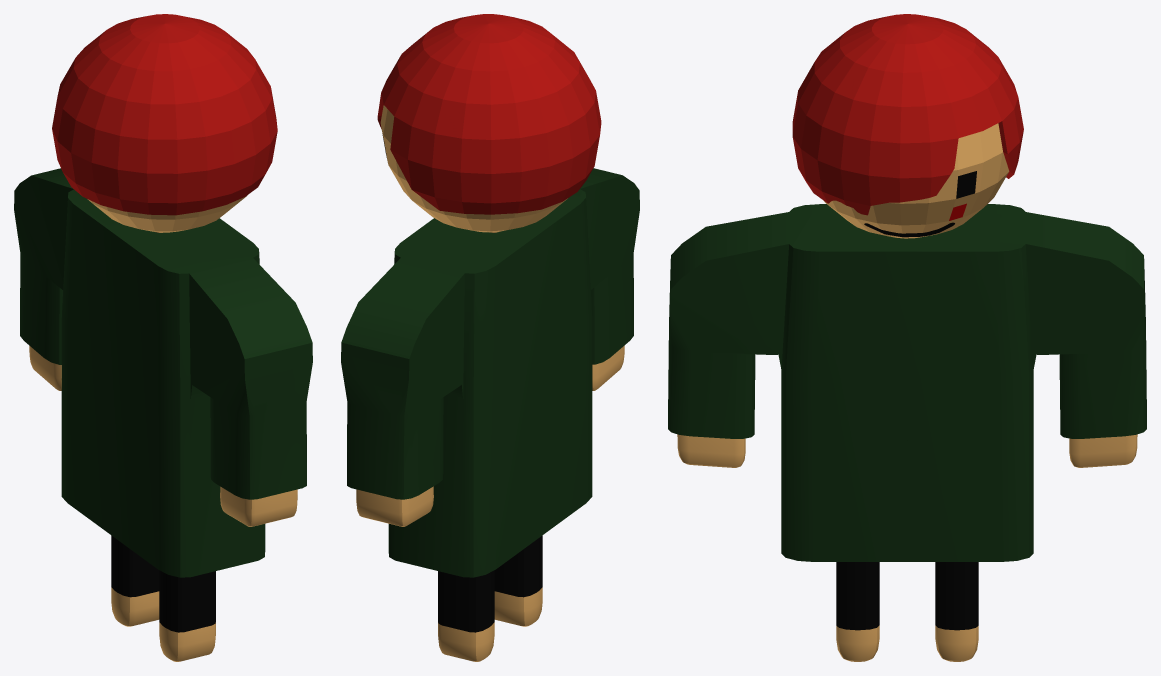
The model's file is Maria.fbx.
3 renders of one model, left to right at view 1: azimuth 30°, elevation 25°; view 2: azimuth 150°, elevation 25°; view 3: azimuth 270°, elevation 25°, orthographic. The views are drawn at different scales.
Visible parts, largest first — view 1: Cube; view 2: Cube; view 3: Cube.
Part boxes in pixels (box(x1,y1,x2,y2)): Cube: box(14, 14, 312, 661); Cube: box(341, 14, 639, 661); Cube: box(668, 14, 1146, 661).
Bounding box in the file's own units: 57.65 × 173 × 119.
